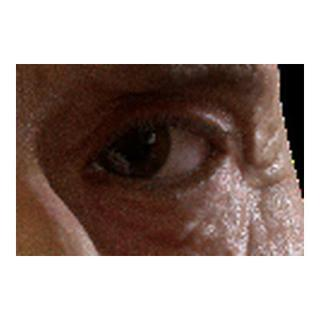pupil: (113, 126, 148, 160)
